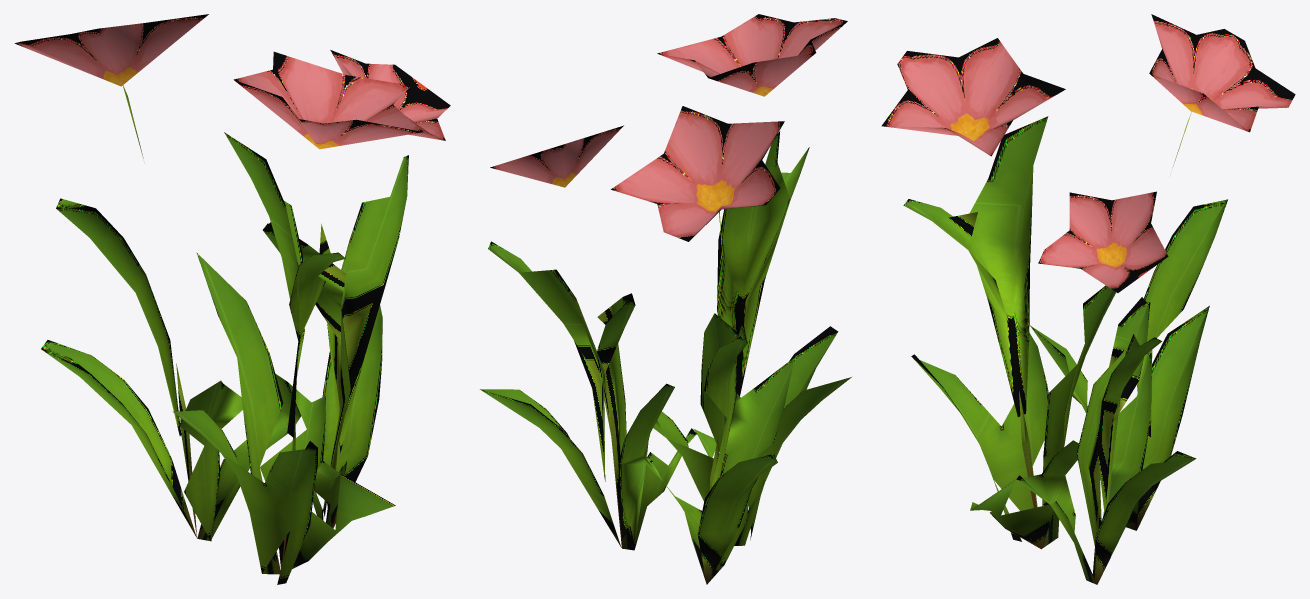
File: Flower_3_Group.gltf
3 renders of one model, left to right at view 1: azimuth 30°, elevation 25°; view 2: azimuth 150°, elevation 25°; view 3: azimuth 270°, elevation 25°, orthographic. The views are drawn at different scales.
Parts seen in each view (by area): view 1: Flower_3_Group; view 2: Flower_3_Group; view 3: Flower_3_Group.
Boxes of the visible parts, x1,y1,x2,y2 form: Flower_3_Group: (14, 14, 450, 584); Flower_3_Group: (480, 14, 851, 584); Flower_3_Group: (881, 14, 1295, 584).
Size of the model in its own units: 1.49 by 2.04 by 1.59.
2 materials, 2 textured.
